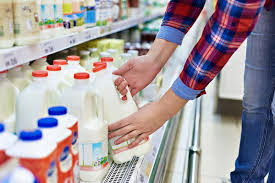milk: (93, 68, 153, 163), (69, 73, 113, 178), (50, 109, 83, 174), (15, 130, 54, 183), (21, 73, 59, 108), (48, 64, 65, 90), (66, 56, 83, 71)
